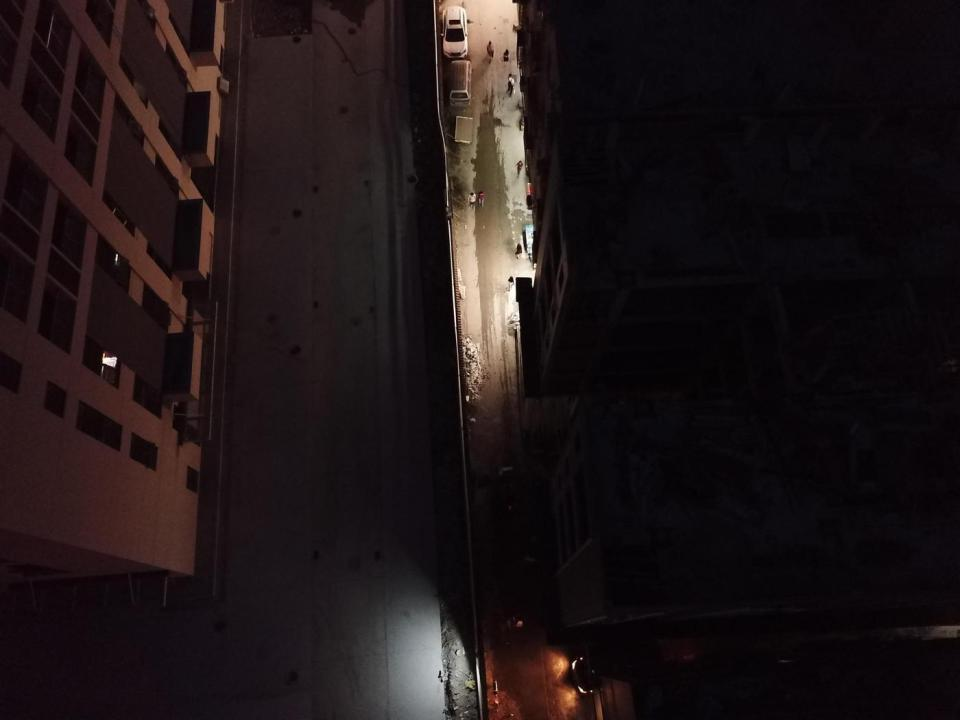car: (569, 653, 648, 695), (441, 6, 468, 58)
van: (448, 60, 472, 107)
